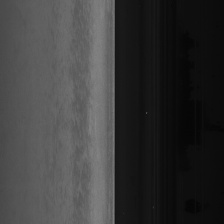silk_spot: (69, 53, 97, 224)
